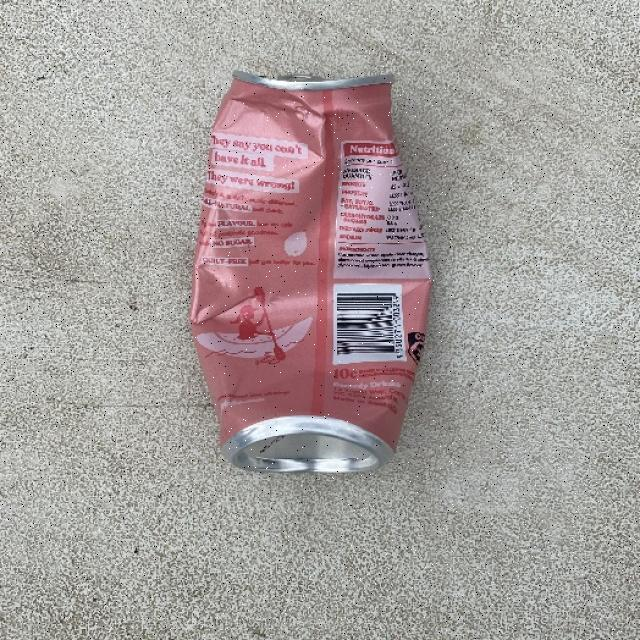metal: (190, 68, 432, 474)
